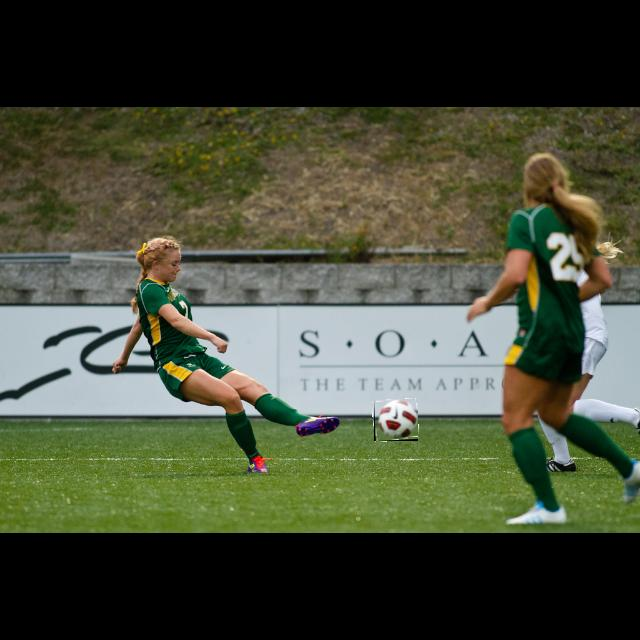Football: (374, 399, 418, 441)
